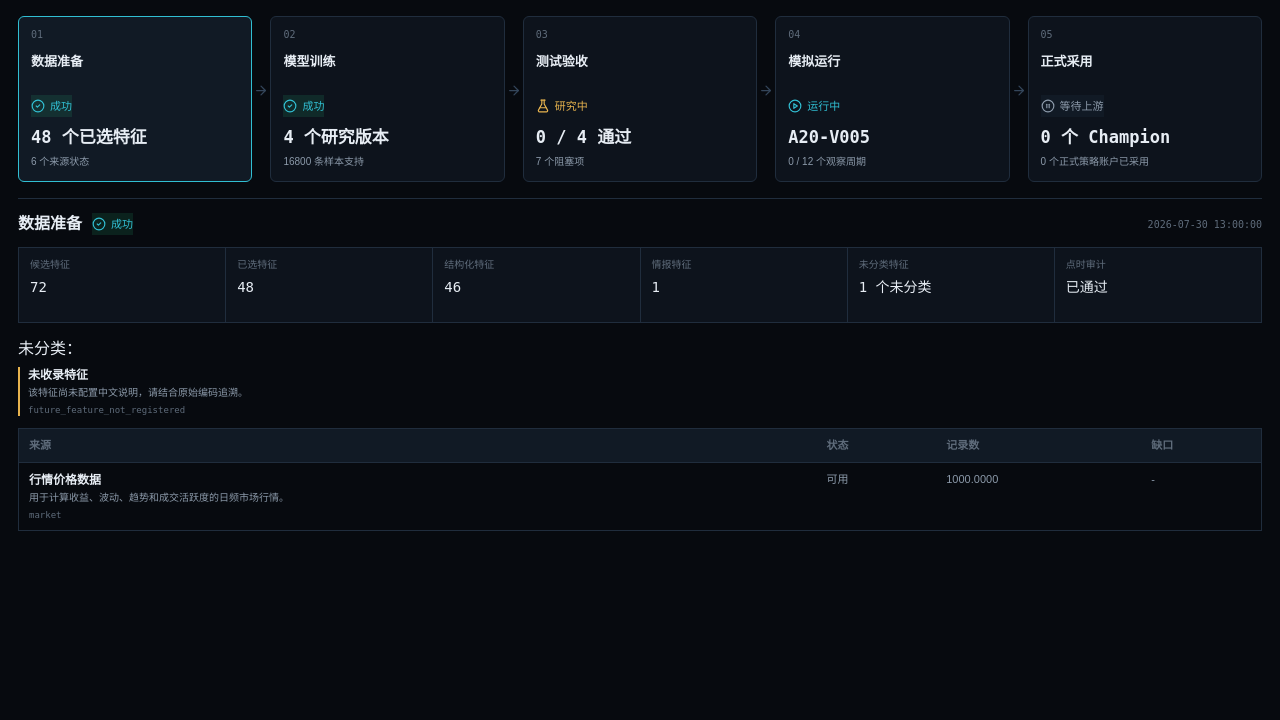
Test: ModelResearchPage › shows scoped accounts, exact replay baselines, and formal attribution
Check: the text "A20-V005" is shown, box x1=788 y1=127 x2=870 y2=147
Click the button "04 模拟运行 运行中 A20-V005 0 / 12 个观察周期". click: (892, 99)
box: x1=775 y1=16 x2=1010 y2=182
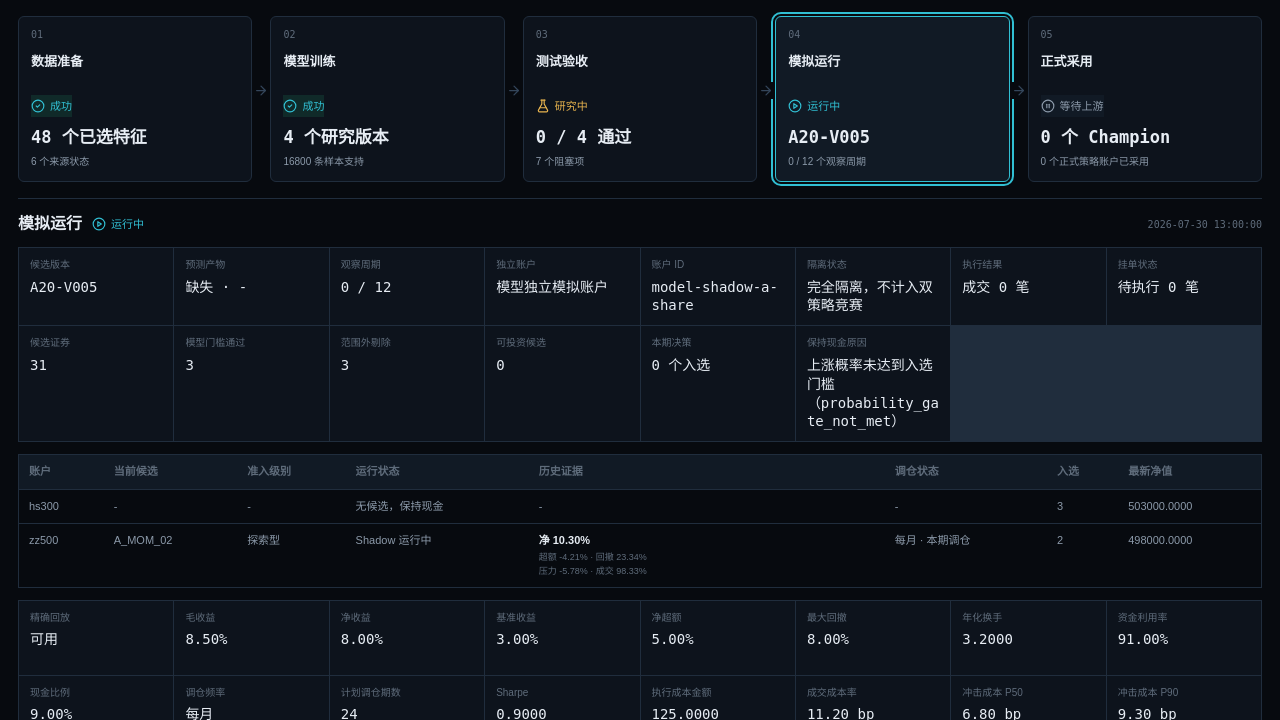
Check: the text "hs300" is shown, box x1=19 y1=489 x2=104 y2=524
Check: the text "zz500" is shown, box x1=19 y1=524 x2=104 y2=587
Check: the text "A_MOM_02" is shown, box x1=104 y1=524 x2=237 y2=587
Click the button "05 正式采用 等待上游 0 个 Champion 0 个正式策略账户已采用". click: (1145, 99)
box: x1=1028 y1=16 x2=1262 y2=182
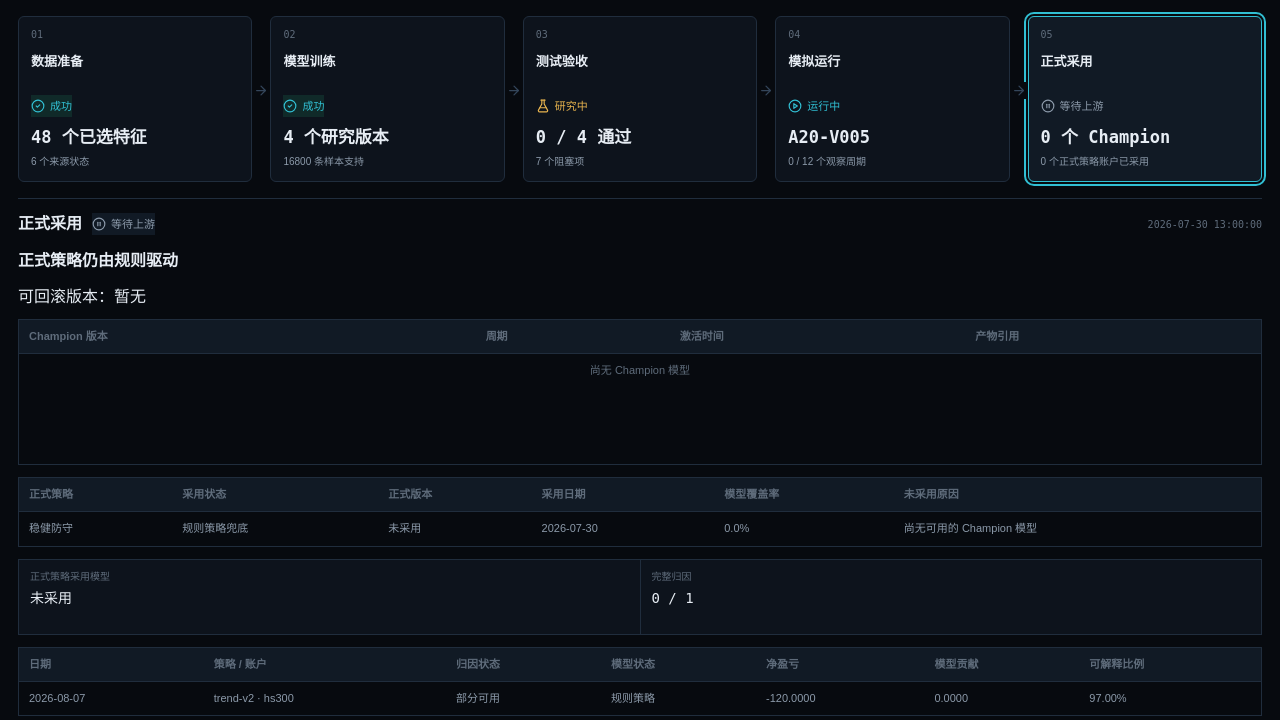
Check: the text "未采用" is shown 2 times, box x1=378 y1=512 x2=532 y2=546; x1=30 y1=590 x2=72 y2=606
Check: the text "trend-v2 · hs300" is shown, box x1=204 y1=682 x2=446 y2=716
Check: the text "规则策略" is shown, box x1=601 y1=682 x2=756 y2=716
